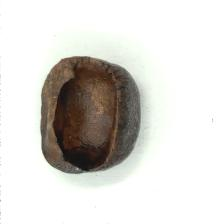NG: (48, 55, 121, 176)
